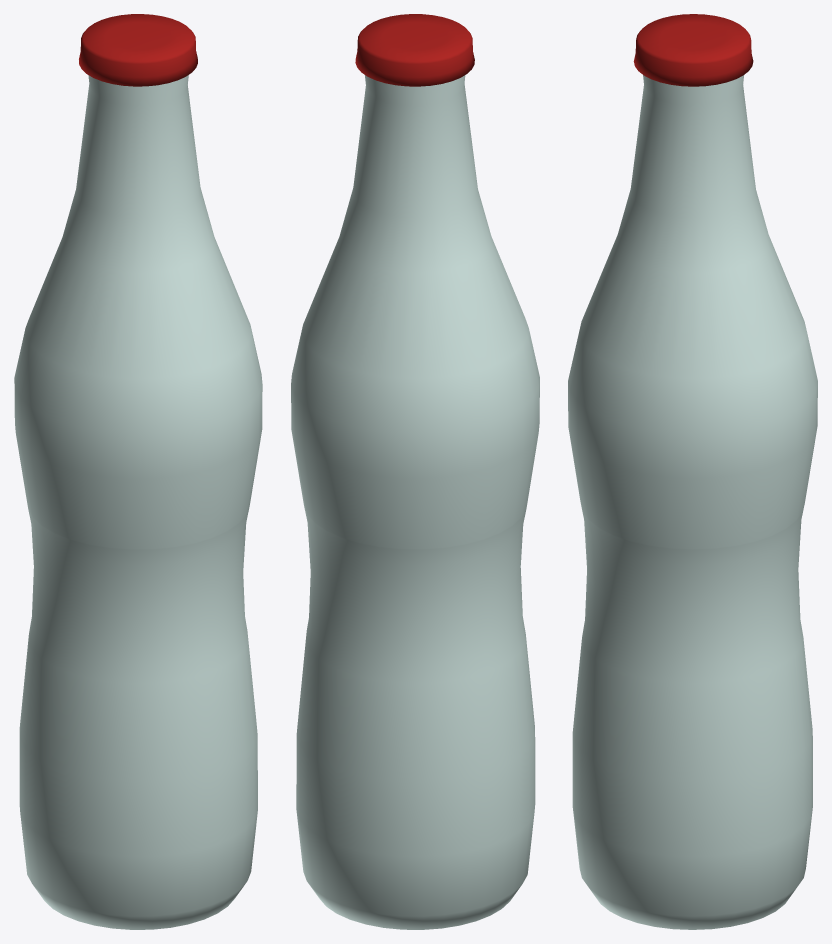
Rendered from bottle_contour_lod1.glb.
The picture shows the model from 3 angles, left to right: view 1: azimuth 30°, elevation 25°; view 2: azimuth 150°, elevation 25°; view 3: azimuth 270°, elevation 25°; orthographic projection.
Visible parts, largest first — view 1: Glass, Cap; view 2: Glass, Cap; view 3: Glass, Cap.
Boxes of the visible parts, <box> form: Glass: <box>14,75,262,929</box>; Cap: <box>79,14,197,86</box>; Glass: <box>291,75,539,929</box>; Cap: <box>355,14,474,86</box>; Glass: <box>568,75,817,929</box>; Cap: <box>633,14,753,86</box>.
Size of the model in its own units: 0.0616 by 0.2339 by 0.0619.
